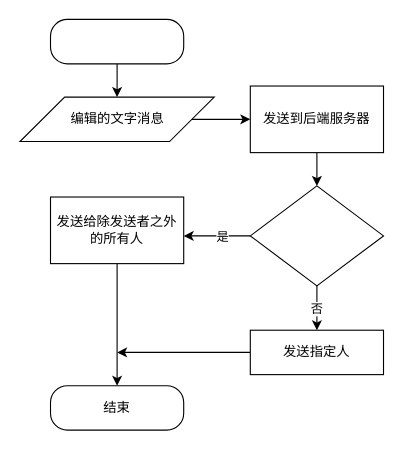
This 403x450 diagram has some shape labels left out. Each missing label, with the centre of its shape:
开始: the point at 116,41
是否发送给 所有人: the point at 316,235
